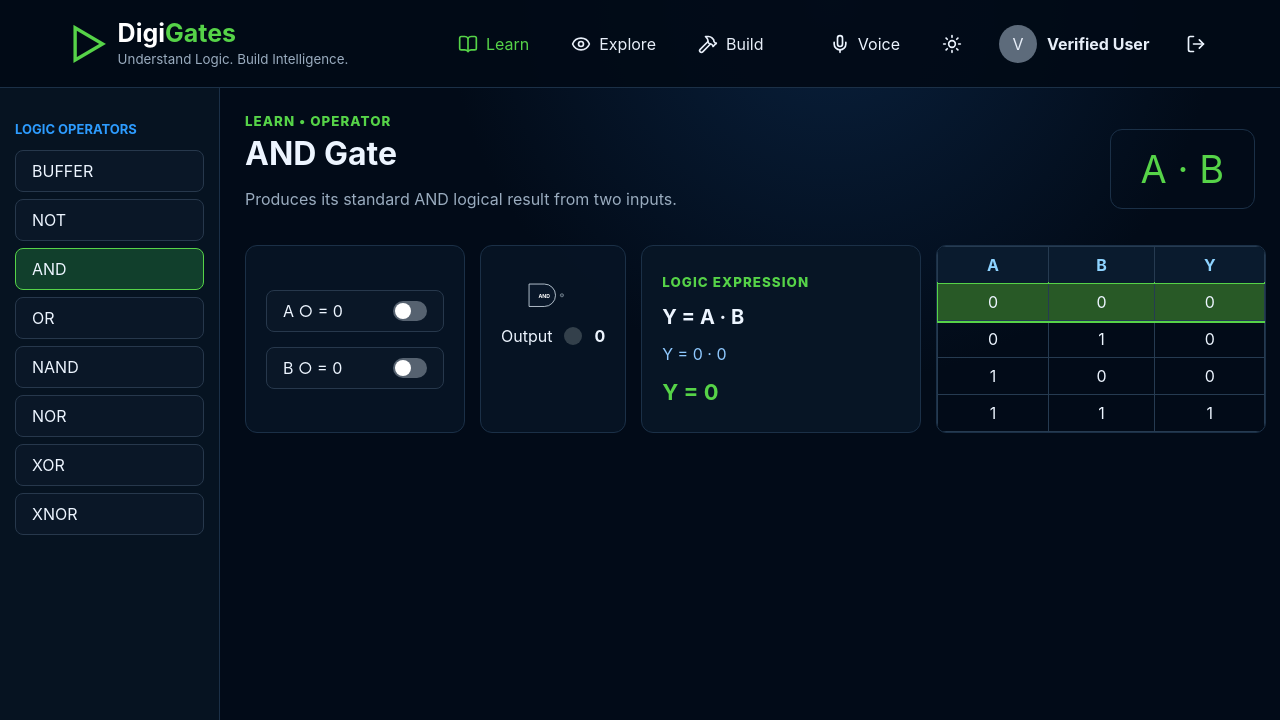
it: speech recognition interaction › reports microphone permission denial without navigating
Click the button "Voice" at (865, 44), box [814,22,916,66]
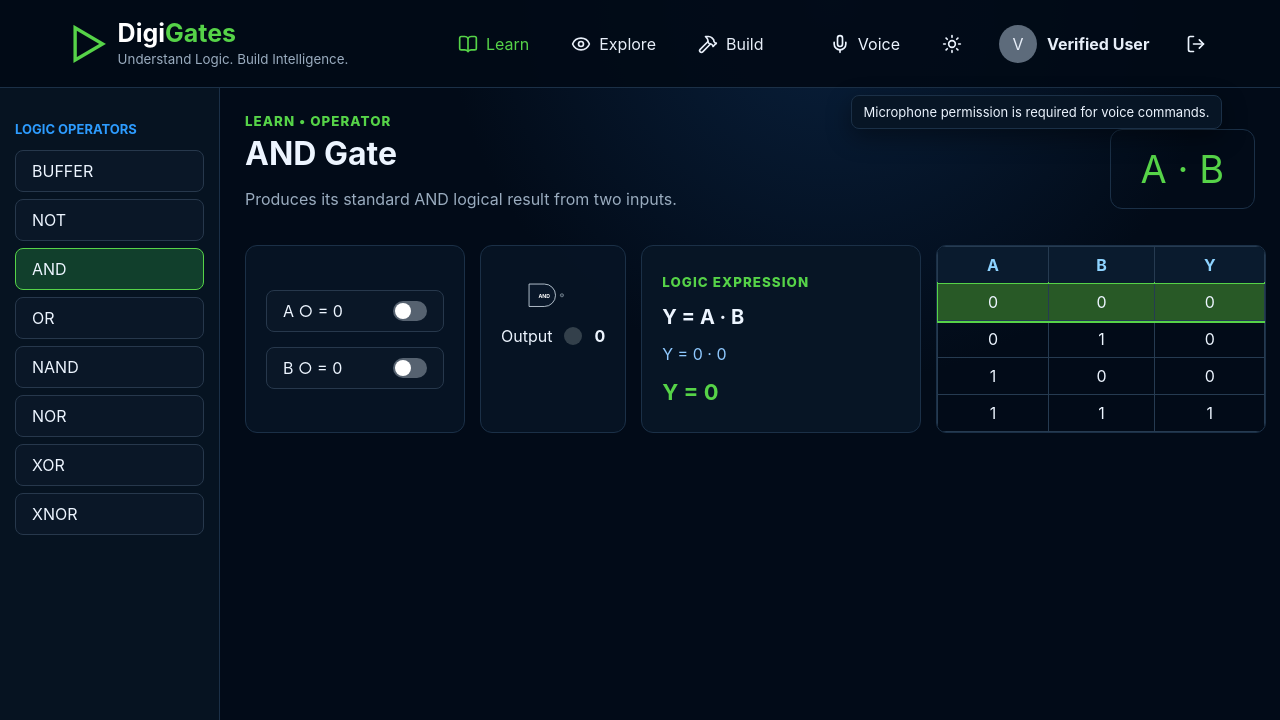
Expected: the text "LEARN • OPERATOR" is shown, [245,113,391,129]
Result: the text "Microphone permission is required" is shown at [864,104,1209,120]
